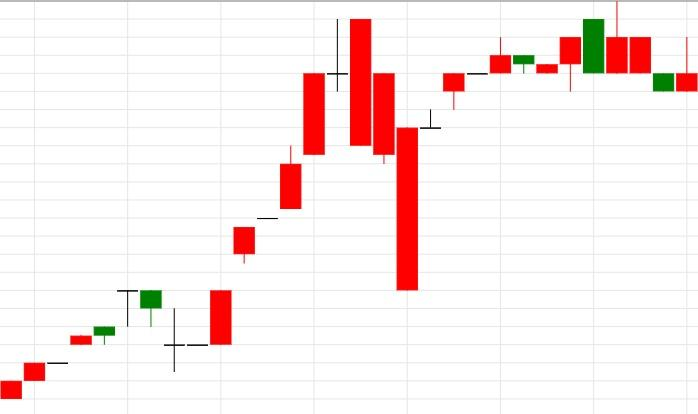bullish_engulfing_rise: (582, 0, 698, 92)
inverse_hammer_rise: (582, 0, 698, 92)
